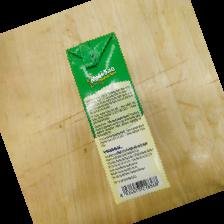NSPN_Hop: (65, 31, 170, 204)
